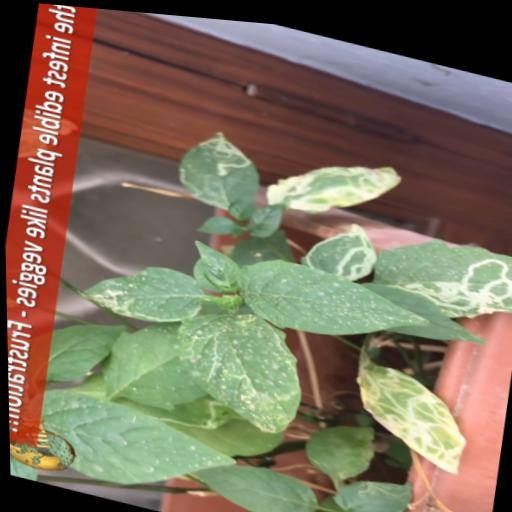Healthy: (183, 445, 321, 512)
Leaf_Miner: (157, 292, 310, 436), (360, 212, 512, 323), (340, 349, 473, 469), (259, 130, 401, 228), (72, 243, 209, 332), (167, 116, 267, 213), (292, 204, 379, 280), (137, 377, 232, 437), (323, 456, 413, 512)
